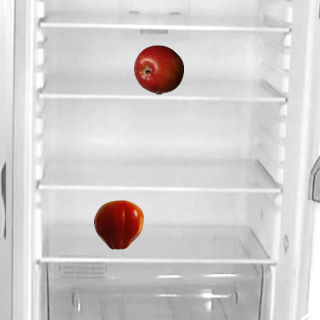Apple Braeburn: (133, 44, 183, 94)
Tomato 1: (93, 199, 143, 249)
